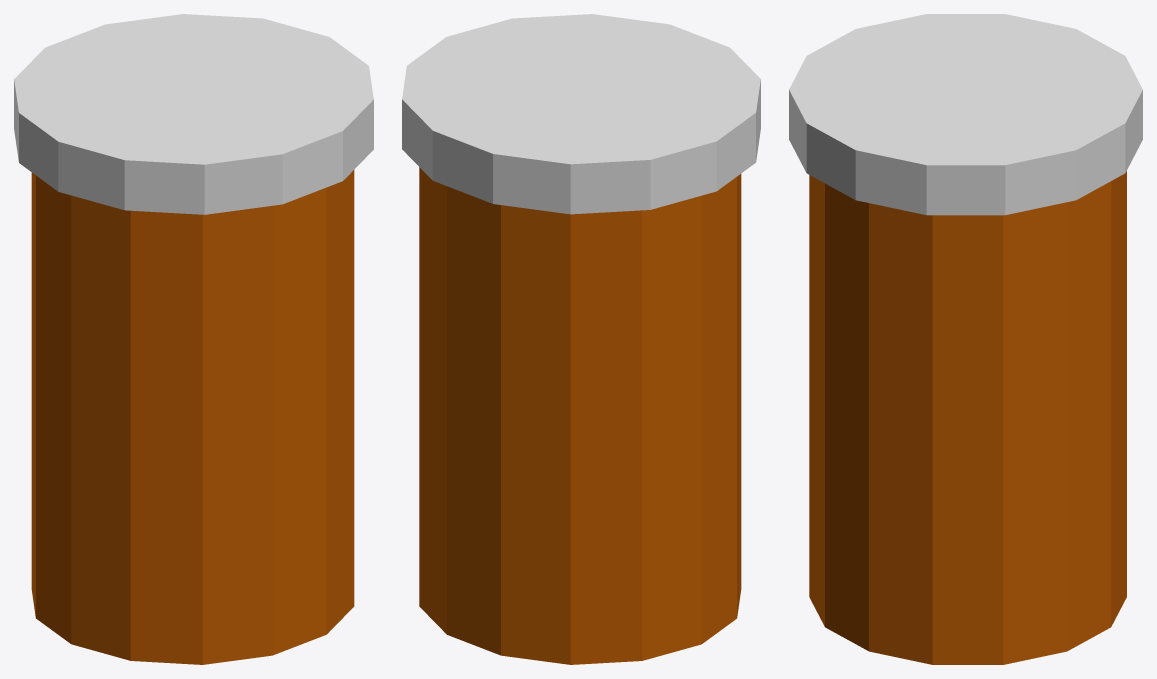
Rendered from medicine container (made by me) (first form).glb.
3 views of the same model, side by side, from view 1: azimuth 30°, elevation 25°; view 2: azimuth 150°, elevation 25°; view 3: azimuth 270°, elevation 25° (orthographic).
Parts seen in each view (by area): view 1: Cylinder, Cylinder.001; view 2: Cylinder, Cylinder.001; view 3: Cylinder, Cylinder.001.
Part boxes in pixels (<box>): Cylinder: <box>31,170,354,664</box>; Cylinder.001: <box>14,14,373,214</box>; Cylinder: <box>419,167,741,664</box>; Cylinder.001: <box>402,14,760,214</box>; Cylinder: <box>809,171,1126,664</box>; Cylinder.001: <box>789,14,1142,215</box>.
Size of the model in its own units: 1.36 by 2.12 by 1.34.
